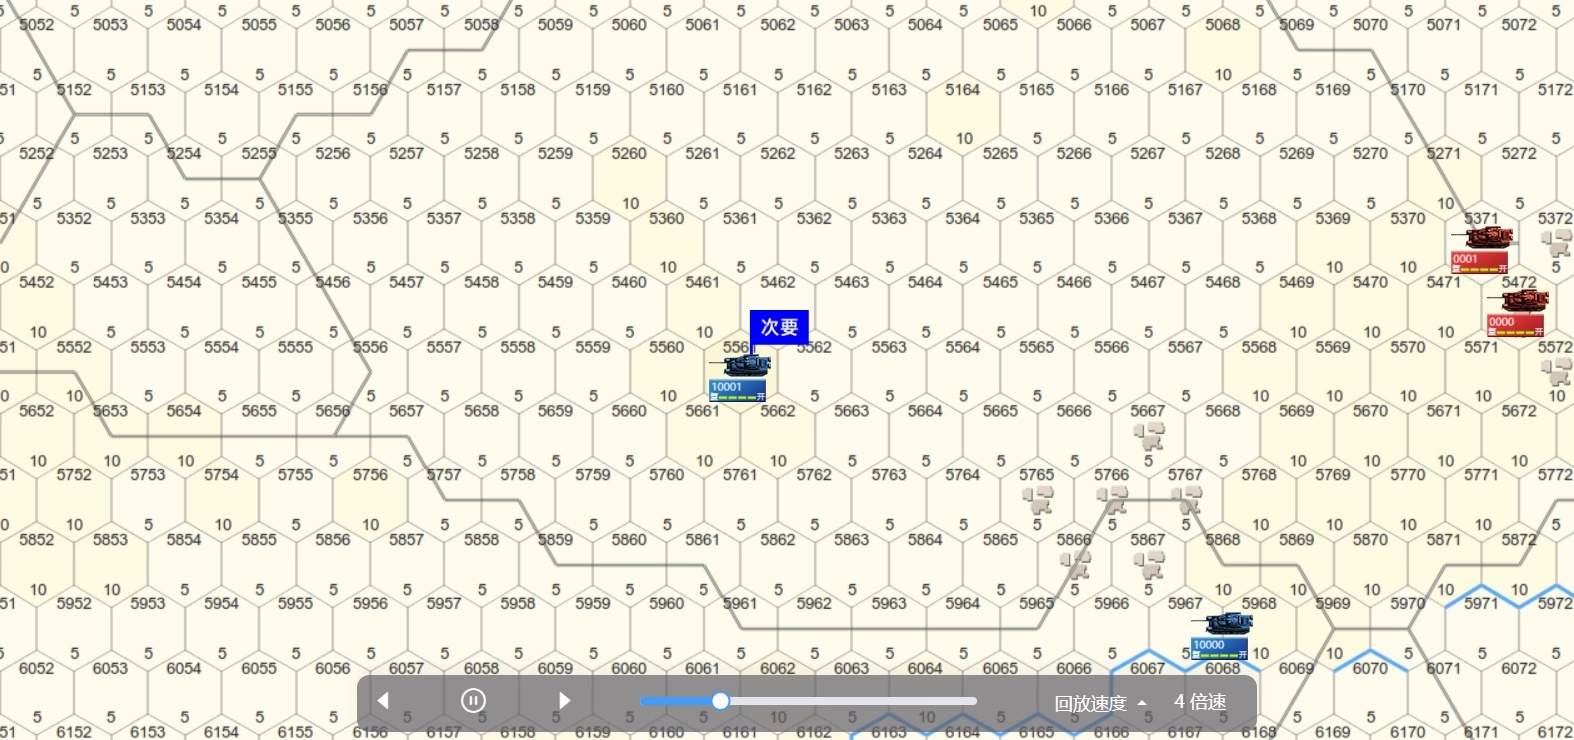blue_tank: (1193, 608, 1259, 664), (712, 354, 772, 405)
red_tank: (1486, 291, 1551, 335), (1457, 227, 1513, 271)
